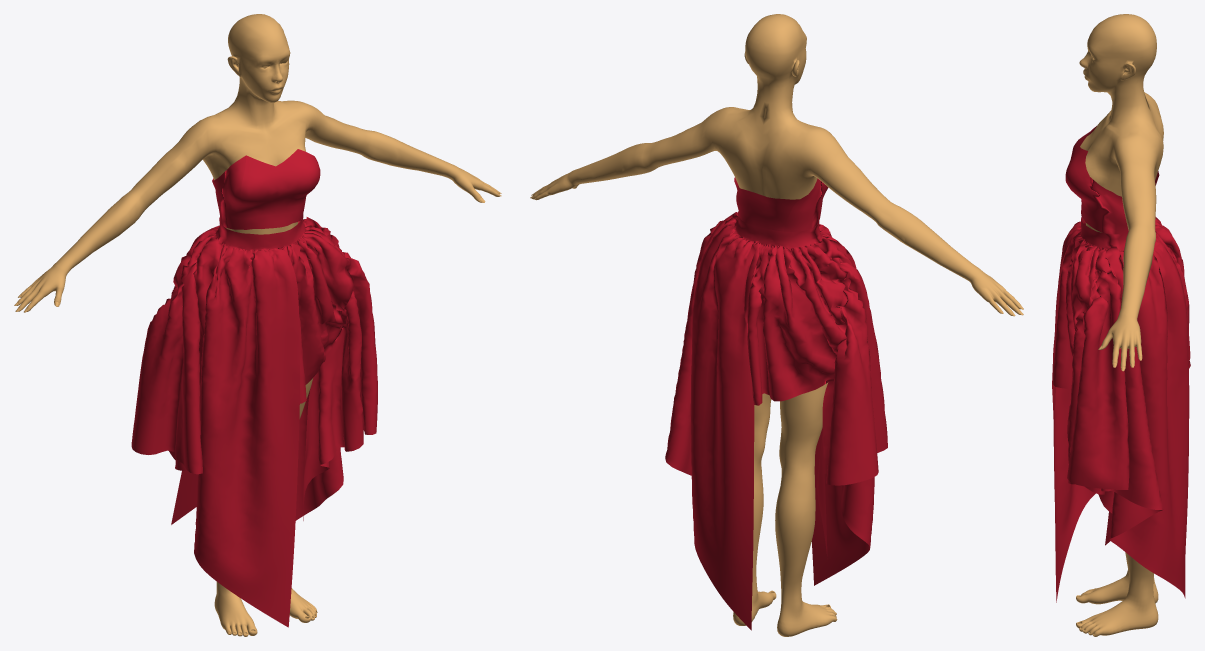
The model's file is dress2.glb.
3 renders of one model, left to right at view 1: azimuth 30°, elevation 25°; view 2: azimuth 150°, elevation 25°; view 3: azimuth 270°, elevation 25°, orthographic.
Visible parts, largest first — view 1: Project 1, Body; view 2: Project 1, Body; view 3: Project 1, Body.
Boxes of the visible parts, x1,y1,x2,y2 form: Project 1: (131, 149, 377, 627); Body: (16, 14, 500, 636); Project 1: (665, 177, 887, 630); Body: (531, 14, 1021, 636); Project 1: (1052, 126, 1190, 602); Body: (1076, 14, 1163, 636).
Size of the model in its own units: 1.58 by 1.85 by 0.3878.
